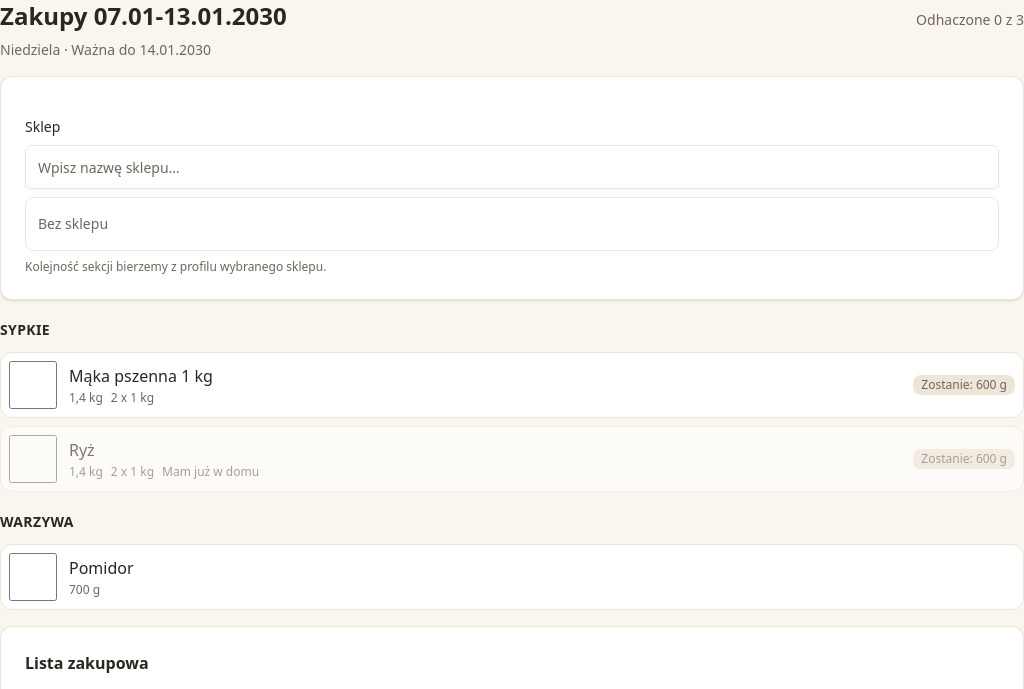
Scenario: ListaZakupowPage › błąd PATCH-a WYCOFUJE optimistic update i pokazuje komunikat
The width and height of the screenshot is (1024, 689).
What coordinates should you click on to do the following:
click the checkbox with test id "shopping-check-1"
I would click on:
 (33, 385)
Its box is top-left (9, 361), bottom-right (57, 409).
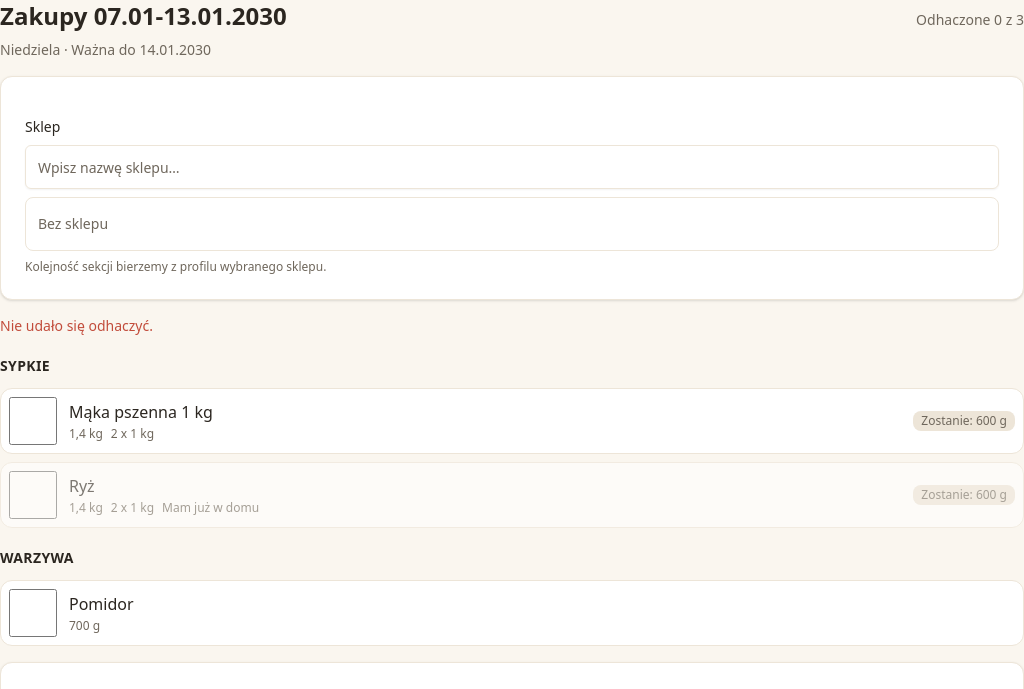
Expected: the text with test id "lista-progress" reads "Odhaczone 0 z 3", top-left (916, 10), bottom-right (1023, 29)
Expected: the message with test id "lista-error" reads "Nie udało się odhaczyć.", top-left (0, 316), bottom-right (153, 335)
